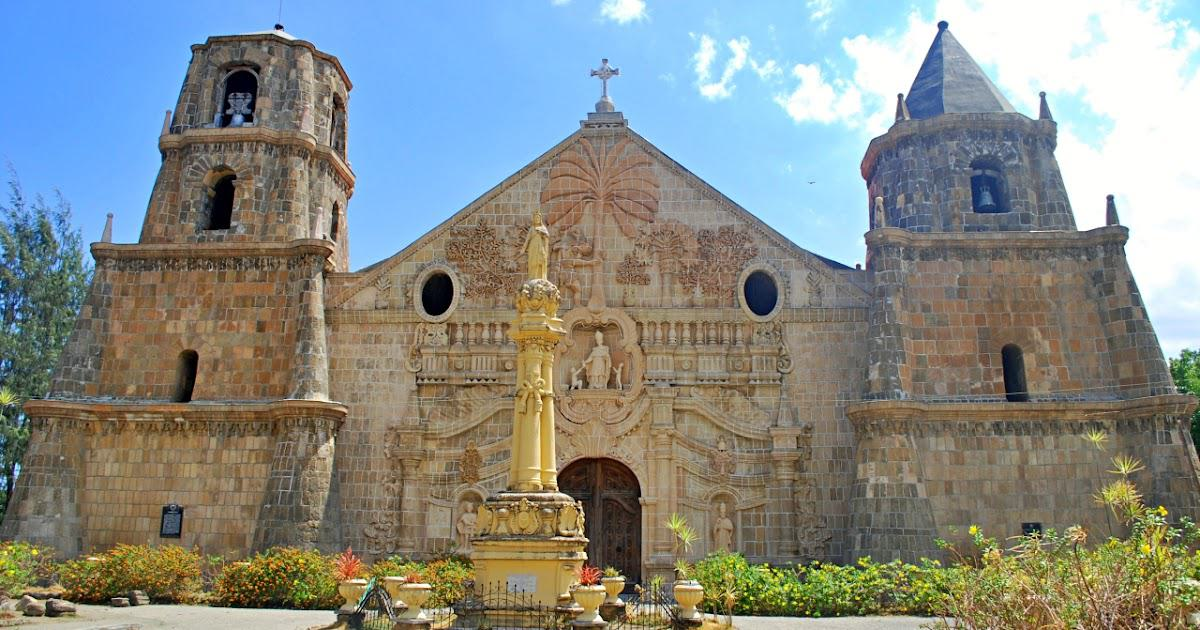Miagao Church: (10, 7, 1200, 562)
